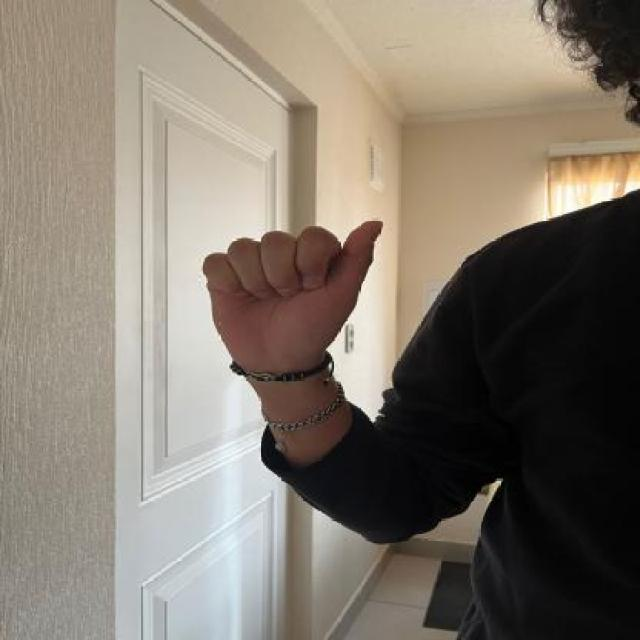A: (195, 212, 387, 386)
